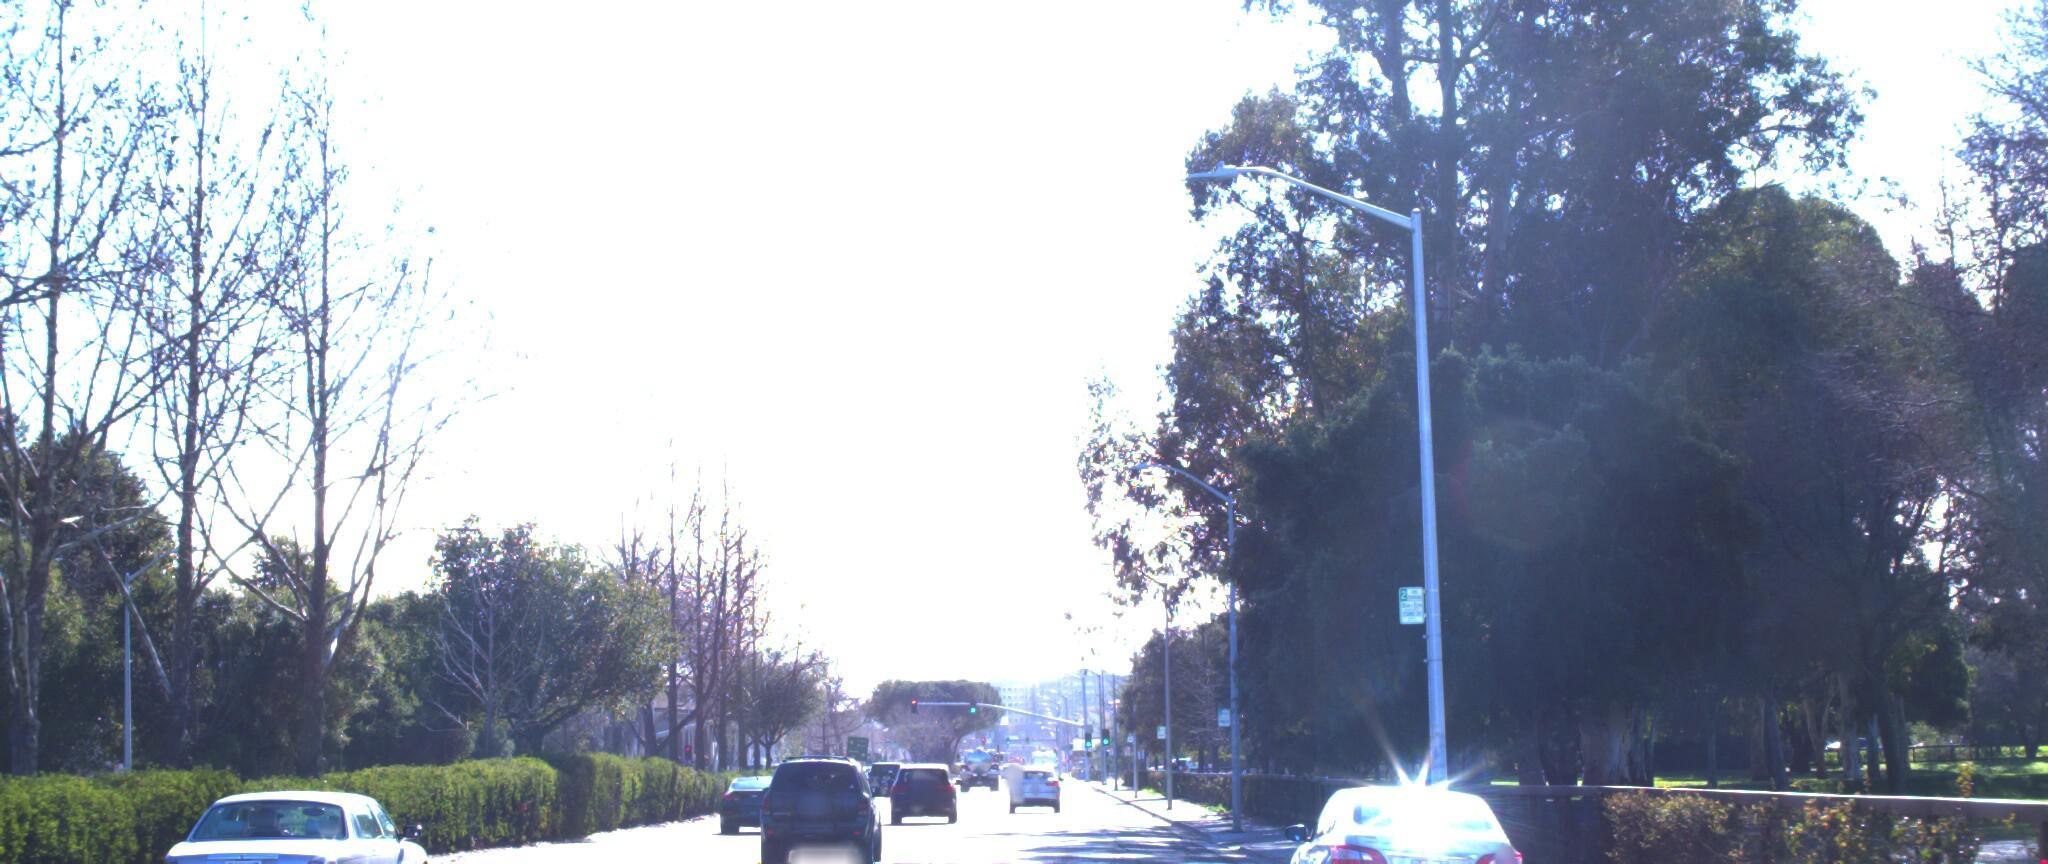car: (125, 773, 460, 864), (1280, 775, 1546, 864), (747, 748, 889, 864)
